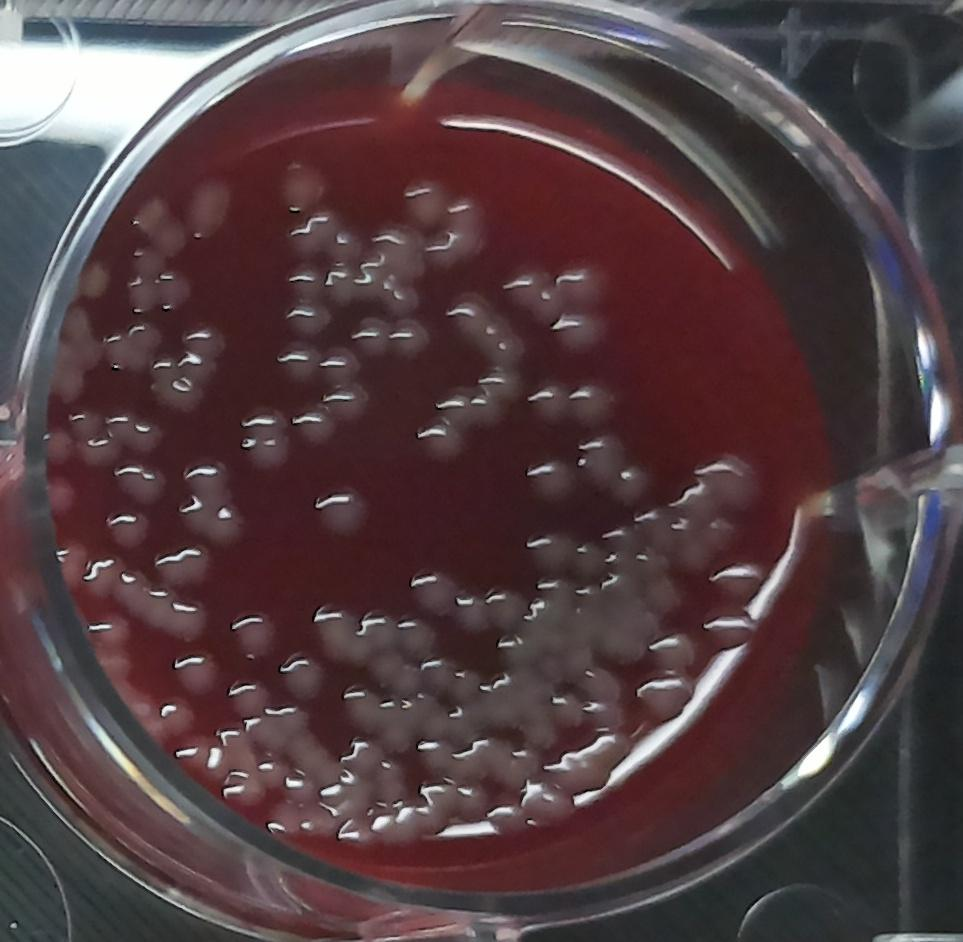vharveyi: (152, 315, 224, 415), (305, 476, 376, 543), (232, 401, 294, 477), (518, 447, 582, 513), (270, 155, 330, 219), (566, 375, 622, 432), (522, 371, 573, 426)
